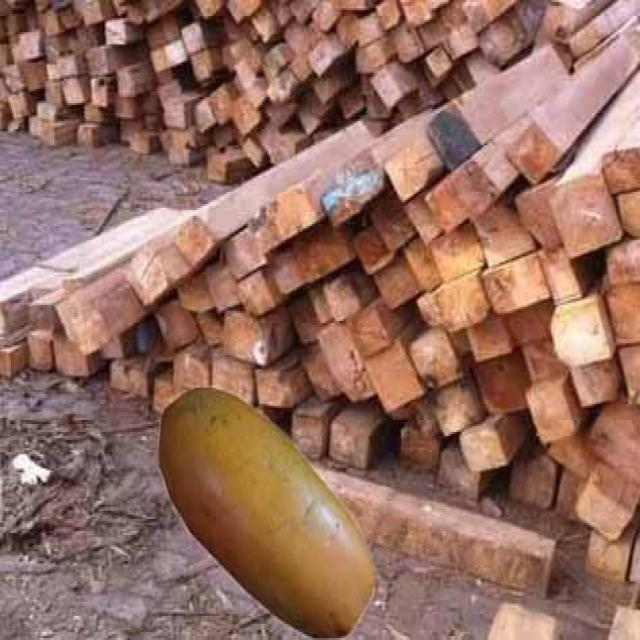Pepaya rippen: (150, 384, 375, 638)
